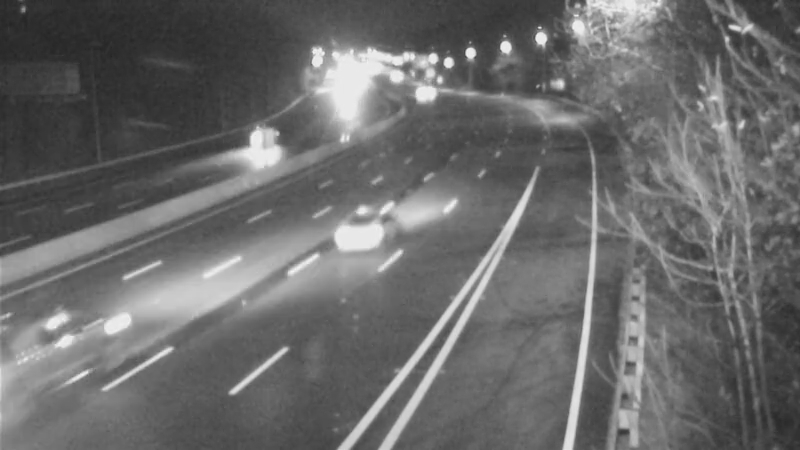vehicle: (1, 292, 109, 402), (326, 190, 406, 270), (392, 62, 442, 112), (235, 116, 285, 166)
